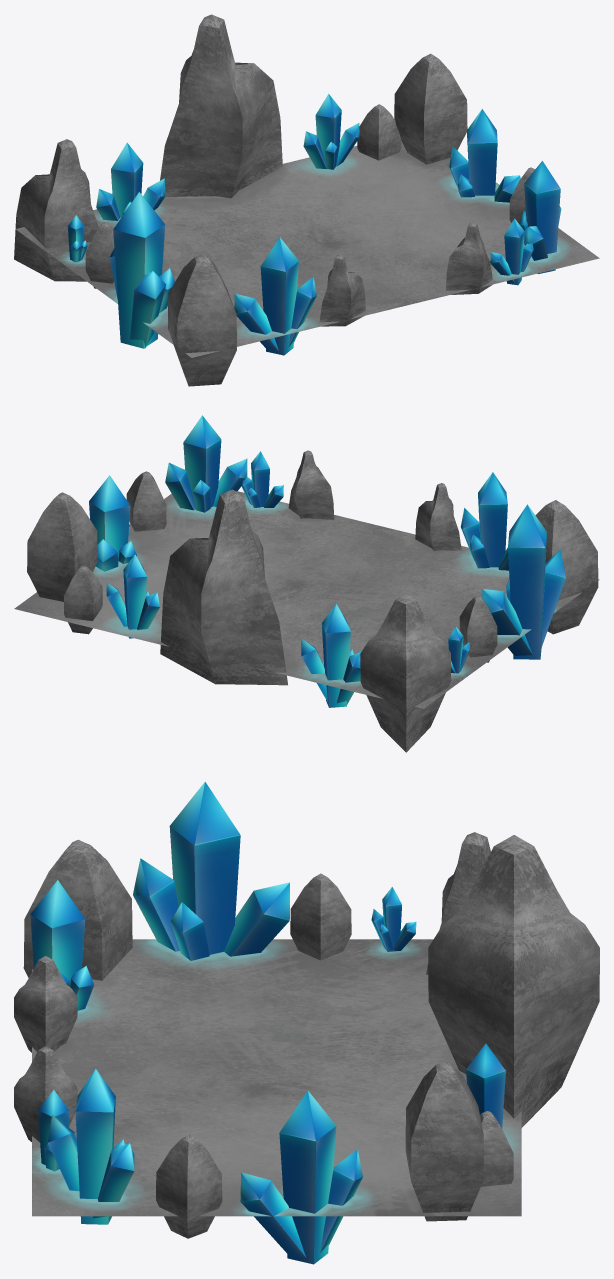
The model's file is darkness_stage.fbx.
The picture shows the model from 3 angles, top to bottom: view 1: azimuth 30°, elevation 25°; view 2: azimuth 150°, elevation 25°; view 3: azimuth 270°, elevation 25°; orthographic projection. The views are drawn at different scales.
Parts seen in each view (by area): view 1: darkness_stage, stone4, stone3, stone1, crystal6, stone5, crystal5, crystal3, crystal8, crystal, crystal2, stone8 (+6 smaller); view 2: darkness_stage, stone4, stone3, crystal6, stone5, stone1, crystal8, crystal, crystal5, crystal3, crystal2, stone (+6 smaller); view 3: darkness_stage, stone4, crystal6, crystal3, stone5, stone1, crystal8, stone7, crystal5, stone, stone2, stone8 (+5 smaller).
Boxes of the visible parts, x1,y1,x2,y2 form: darkness_stage: (15, 140, 599, 357); stone4: (160, 14, 282, 198); stone3: (14, 139, 98, 281); stone1: (168, 254, 236, 386); crystal6: (109, 192, 174, 348); stone5: (394, 53, 467, 164); crystal5: (234, 237, 316, 355); crystal3: (449, 109, 520, 202); crystal8: (519, 161, 561, 273); crystal: (96, 142, 165, 220); crystal2: (303, 93, 359, 169); stone8: (446, 222, 492, 294); darkness_stage: (14, 491, 599, 708); stone4: (160, 489, 287, 685); stone3: (360, 594, 450, 752); crystal6: (482, 504, 566, 659); stone5: (27, 492, 97, 601); stone1: (535, 500, 598, 634); crystal8: (165, 415, 247, 512); crystal: (301, 604, 361, 707); crystal5: (460, 472, 508, 570); crystal3: (89, 475, 136, 571); crystal2: (106, 554, 159, 638); stone: (415, 483, 461, 550); darkness_stage: (32, 939, 521, 1216); stone4: (428, 835, 599, 1127); crystal6: (133, 782, 289, 960); crystal3: (240, 1090, 362, 1264); stone5: (405, 1061, 484, 1221); stone1: (23, 839, 132, 980); crystal8: (47, 1068, 134, 1224); stone7: (156, 1134, 222, 1238); crystal5: (30, 880, 93, 1010); stone: (14, 956, 77, 1052); stone2: (290, 873, 351, 960); stone8: (14, 1046, 77, 1142).
Size of the model in its own units: 5888 by 2742 by 5013.
